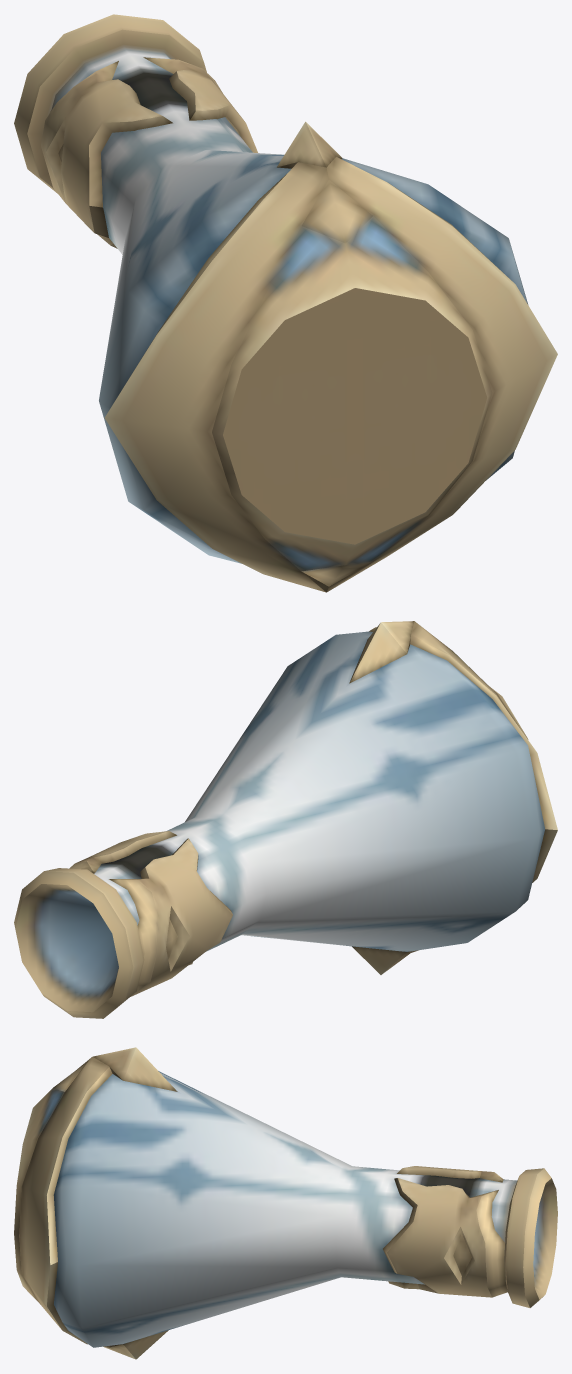
Rendered from Potion 1.glb.
3 renders of one model, top to bottom at view 1: azimuth 30°, elevation 25°; view 2: azimuth 150°, elevation 25°; view 3: azimuth 270°, elevation 25°, orthographic. The views are drawn at different scales.
Visible parts, largest first — view 1: SkillObj_Perform_Potion1_LOD0; view 2: SkillObj_Perform_Potion1_LOD0; view 3: SkillObj_Perform_Potion1_LOD0.
Boxes of the visible parts, x1,y1,x2,y2 form: SkillObj_Perform_Potion1_LOD0: [14, 14, 557, 592]; SkillObj_Perform_Potion1_LOD0: [14, 621, 557, 1018]; SkillObj_Perform_Potion1_LOD0: [14, 1047, 557, 1359].
Bounding box in the file's own units: 0.0997 × 0.1073 × 0.1694.
Materials: 1 (1 with a texture image).
